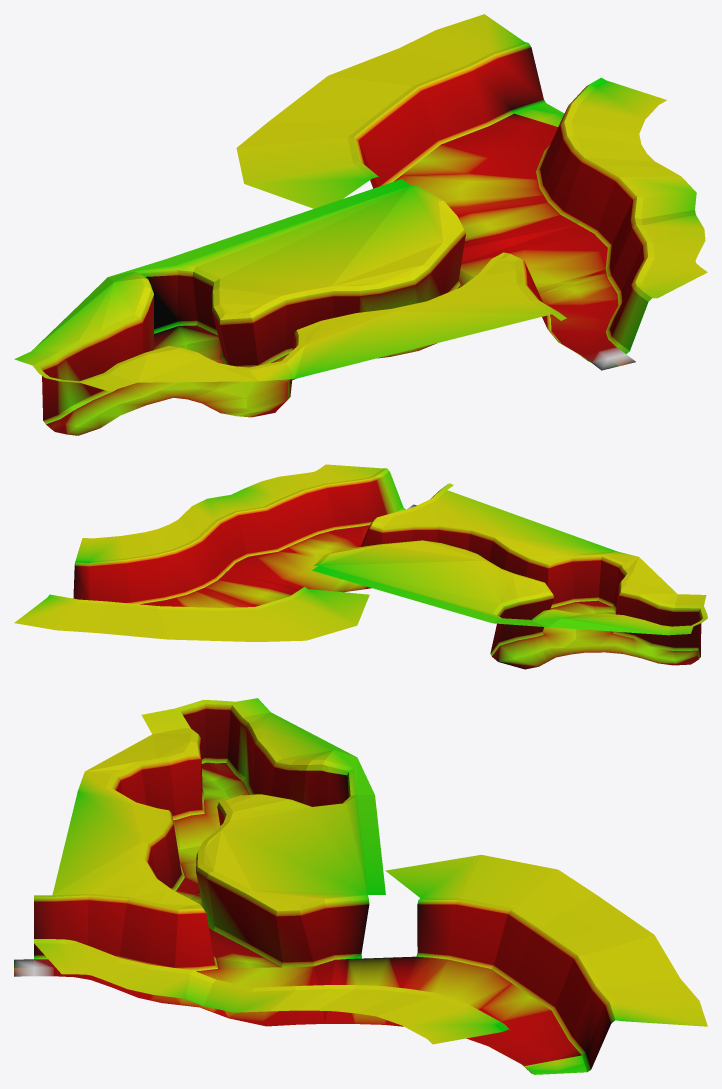
File: forest_clearing_7.glb
3 views of the same model, one above another, from view 1: azimuth 30°, elevation 25°; view 2: azimuth 150°, elevation 25°; view 3: azimuth 270°, elevation 25° (orthographic). The views are drawn at different scales.
Visible parts, largest first — view 1: Clearing_7_Wall, Clearing_7_Floor; view 2: Clearing_7_Wall, Clearing_7_Floor; view 3: Clearing_7_Wall, Clearing_7_Floor.
Part boxes in pixels (left/top/right/bottom): Clearing_7_Wall: left=14, top=14, right=707, bottom=424; Clearing_7_Floor: left=46, top=103, right=635, bottom=435; Clearing_7_Wall: left=14, top=464, right=707, bottom=658; Clearing_7_Floor: left=140, top=504, right=698, bottom=669; Clearing_7_Wall: left=34, top=698, right=707, bottom=1074; Clearing_7_Floor: left=14, top=762, right=586, bottom=1074.
Size of the model in its own units: 85.01 by 9.37 by 69.14.
